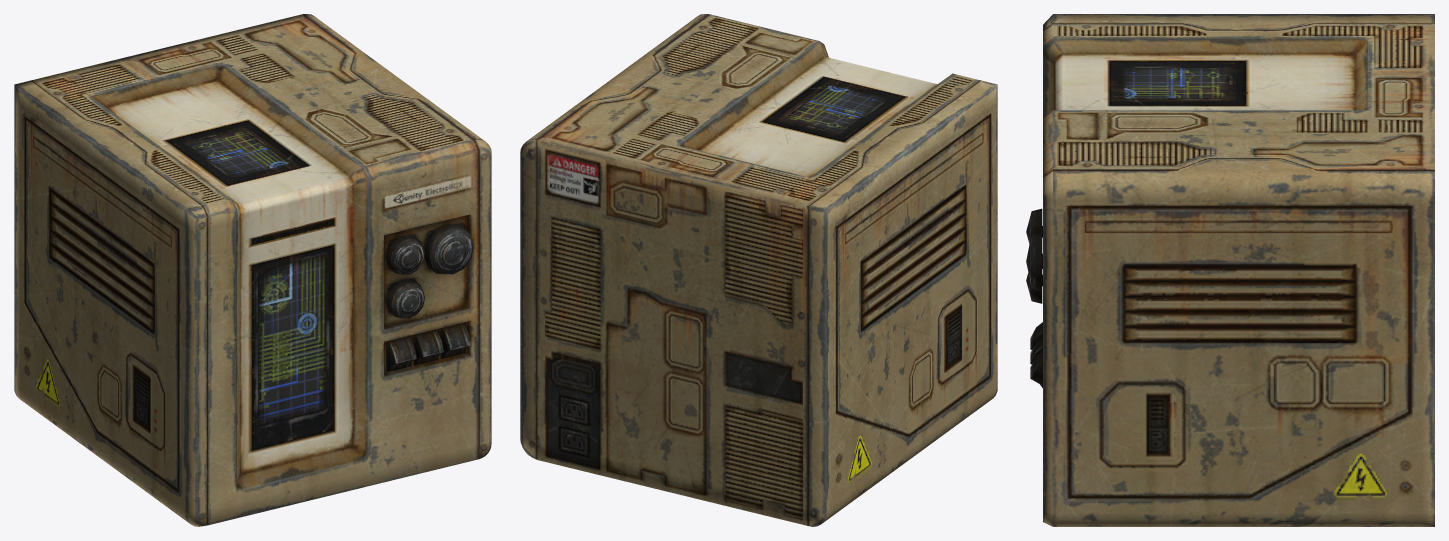
The model's file is prop_powerCube.glb.
3 renders of one model, left to right at view 1: azimuth 30°, elevation 25°; view 2: azimuth 150°, elevation 25°; view 3: azimuth 270°, elevation 25°, orthographic. The views are drawn at different scales.
Visible parts, largest first — view 1: prop_powerCube; view 2: prop_powerCube; view 3: prop_powerCube.
Boxes of the visible parts, <box> form: prop_powerCube: <box>14,14,491,526</box>; prop_powerCube: <box>520,14,997,526</box>; prop_powerCube: <box>1026,14,1434,526</box>.
Size of the model in its own units: 1 by 1 by 1.04.
Materials: 2 (2 with a texture image).
